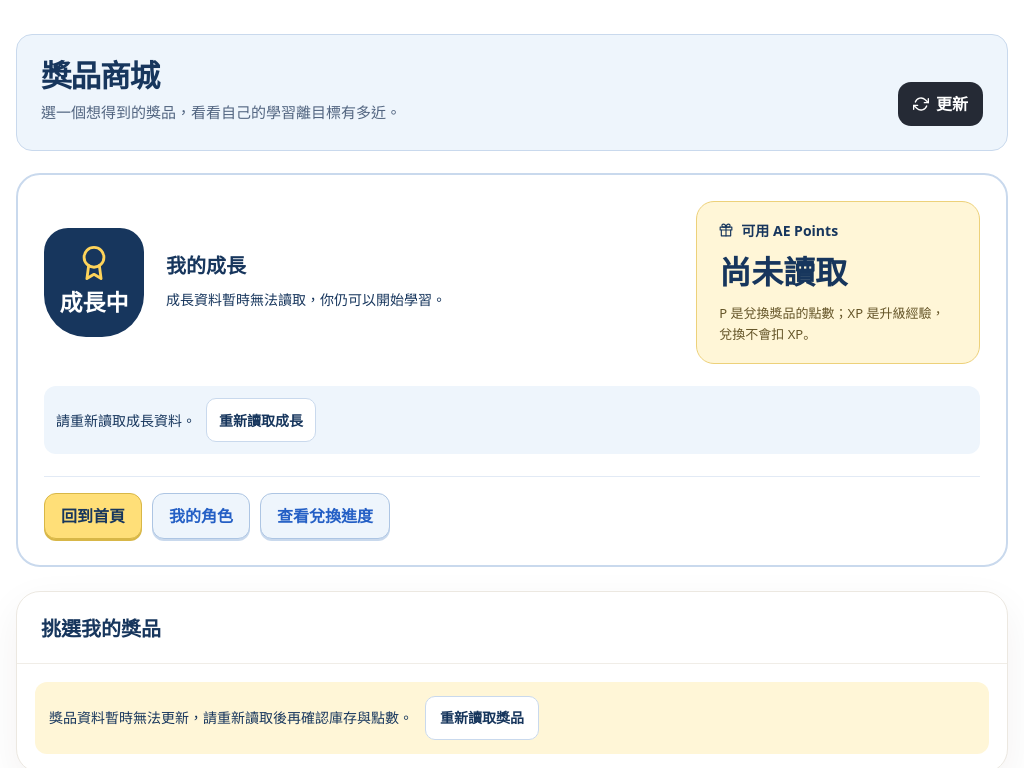
Test: 讀取失敗不顯示虛假的零點數或空獎品，重試後顯示後端數據
Expected: the text "0 P" is not shown
Step 1. Click the button "重新讀取獎品" → (482, 718), box [425,696,539,740]
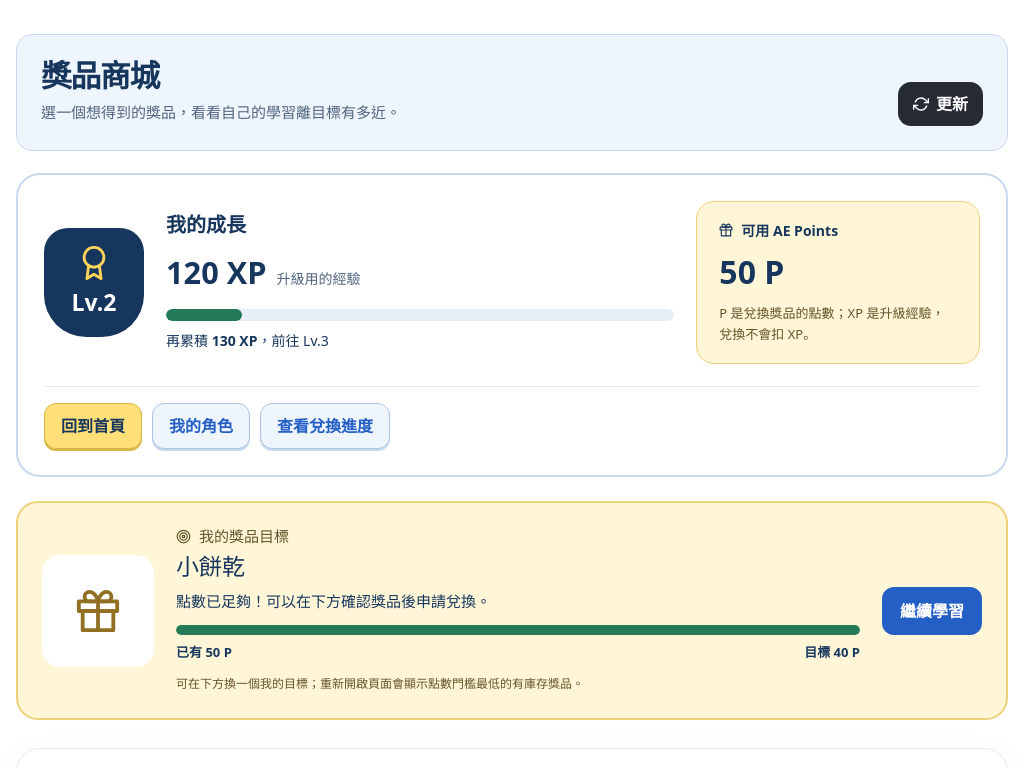
Expected: the text "50 P" is shown, [719,250,784,292]
